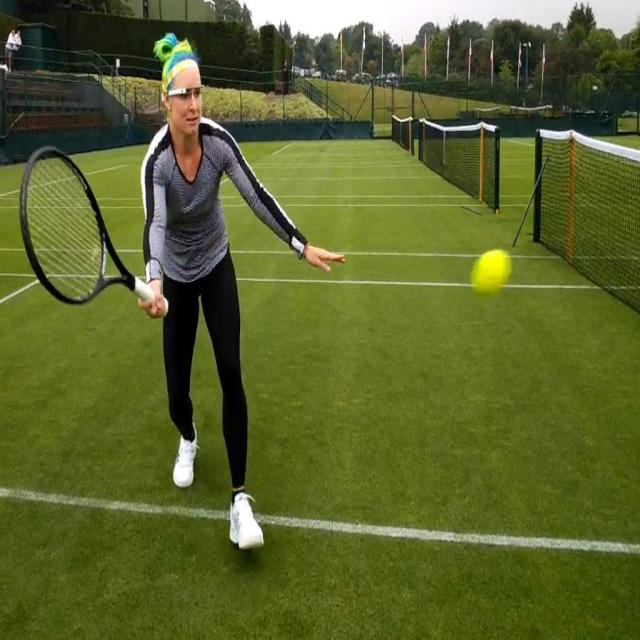Face: (167, 53, 211, 141)
